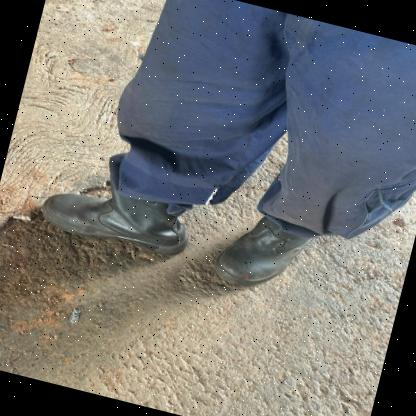bota: (27, 134, 212, 268), (198, 193, 319, 304)
